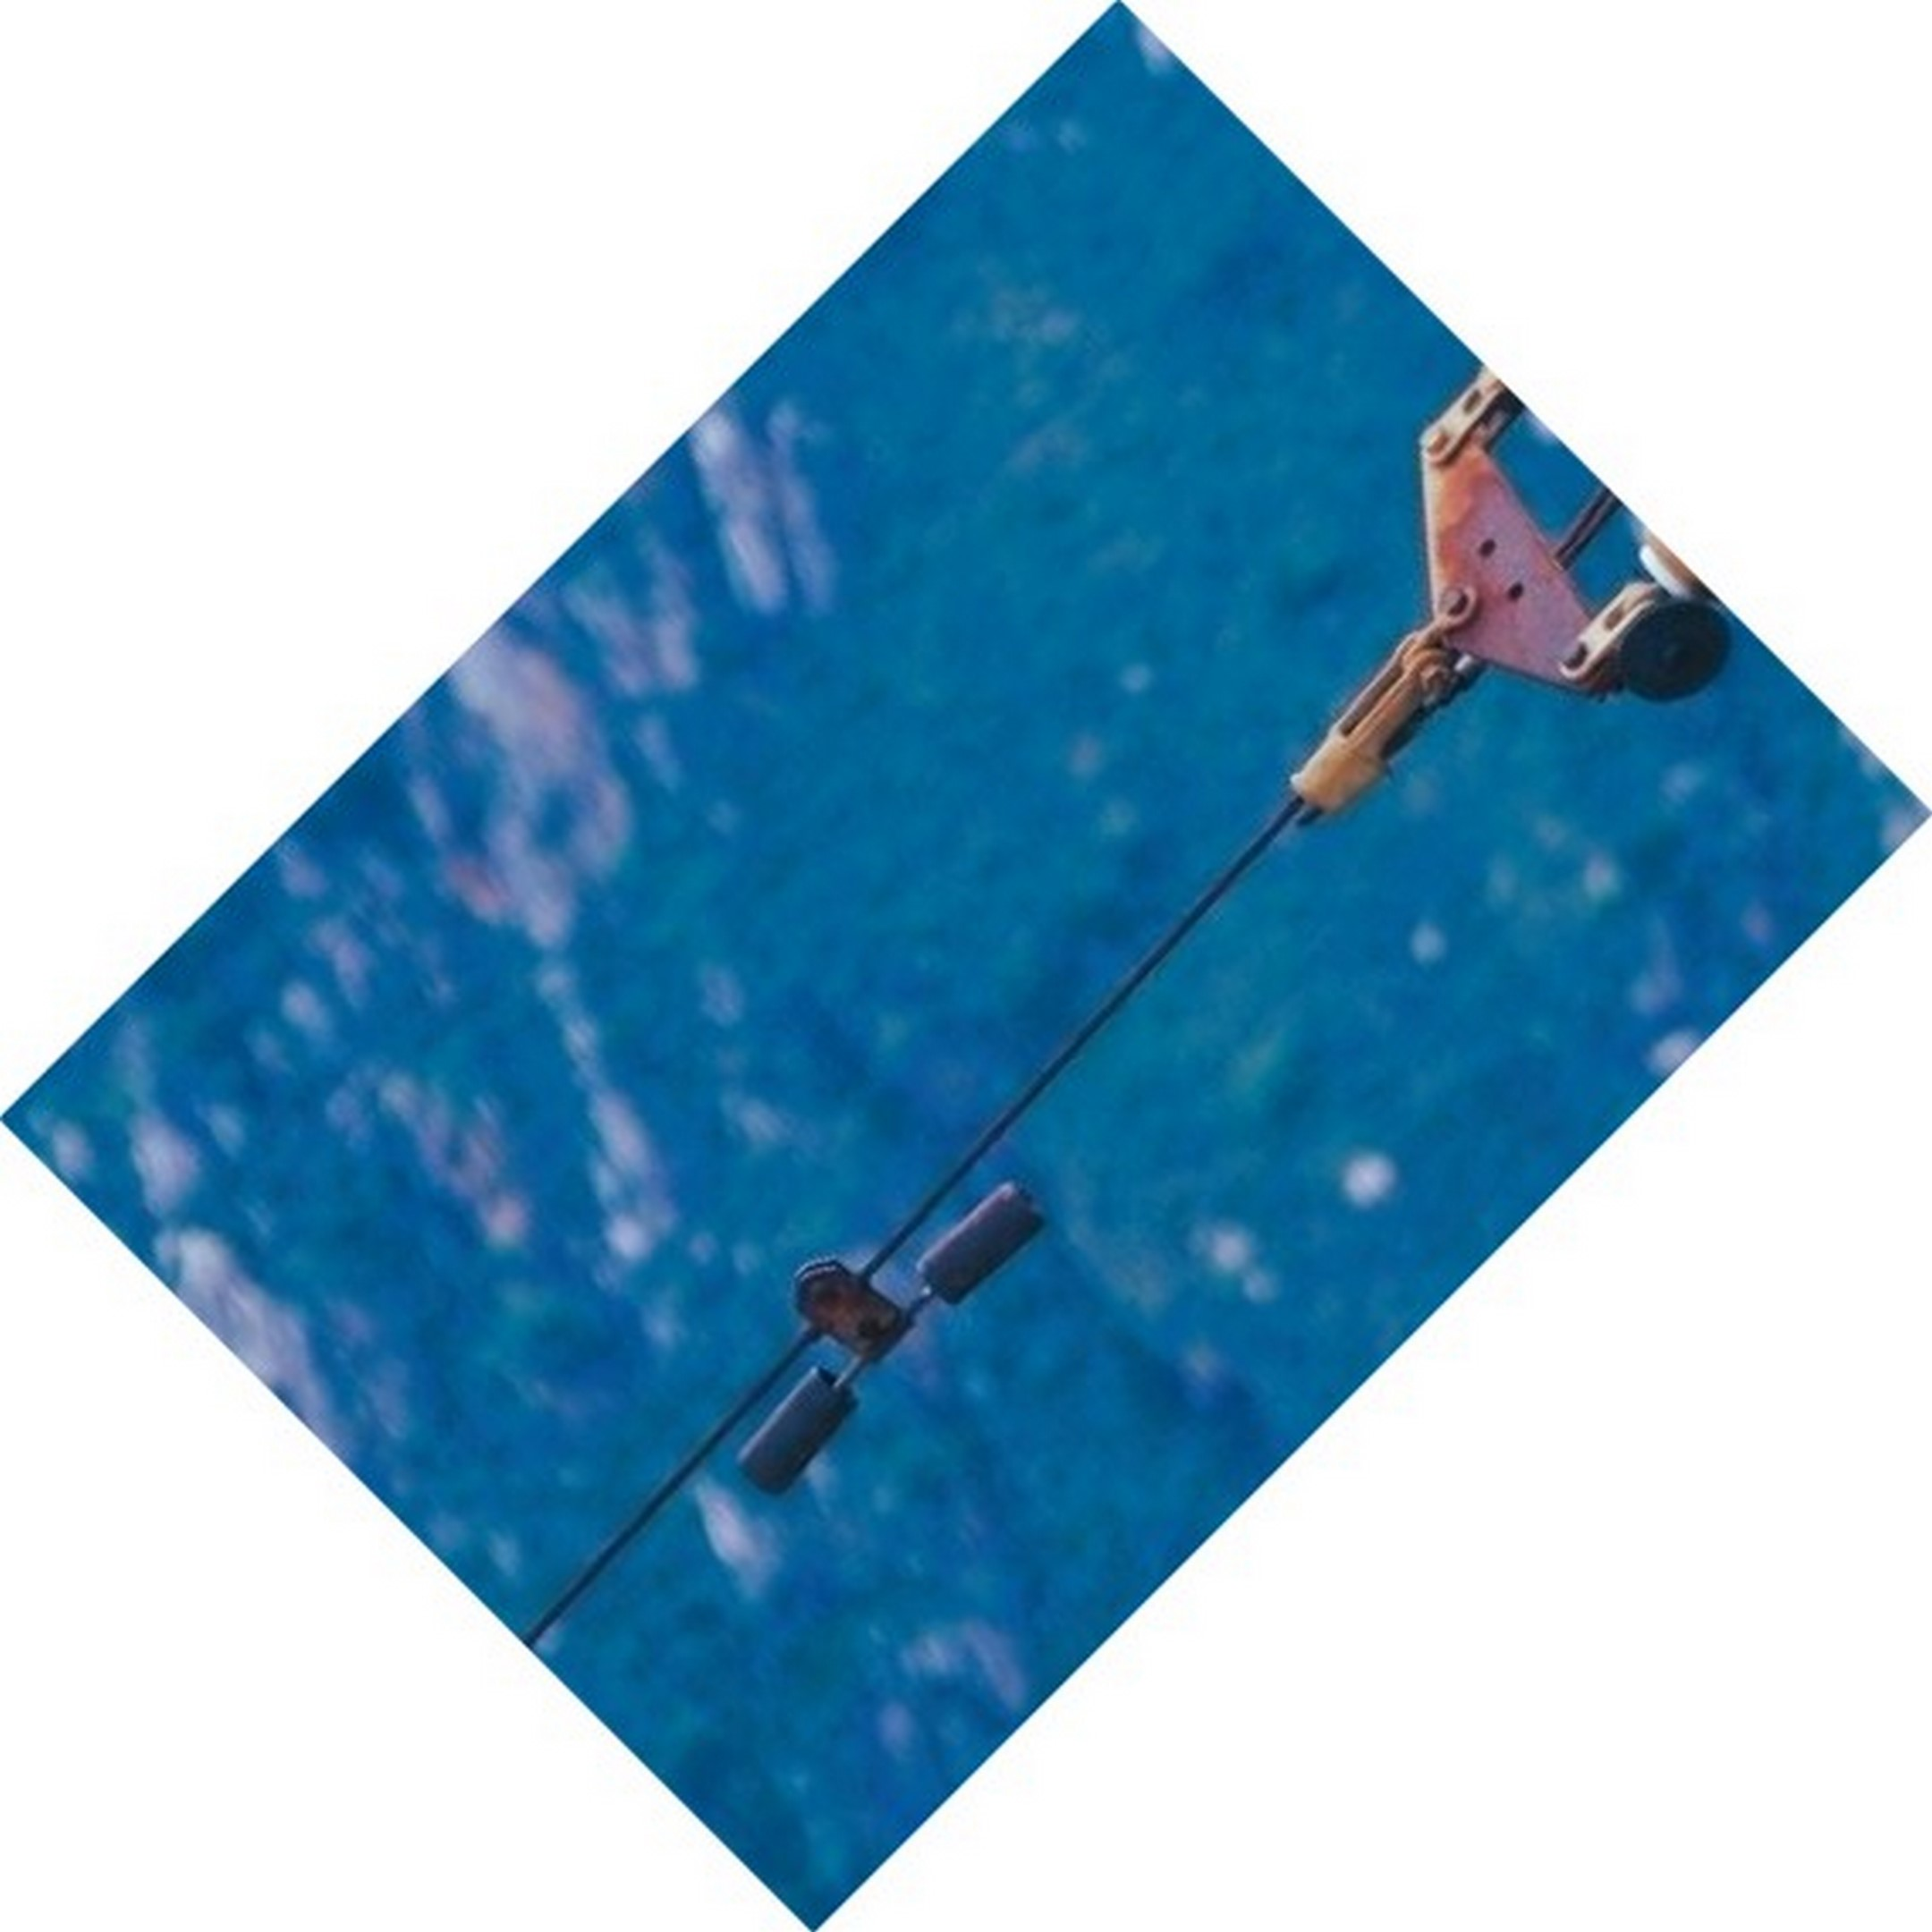Shockproof hammer: (729, 1157, 1083, 1506)
